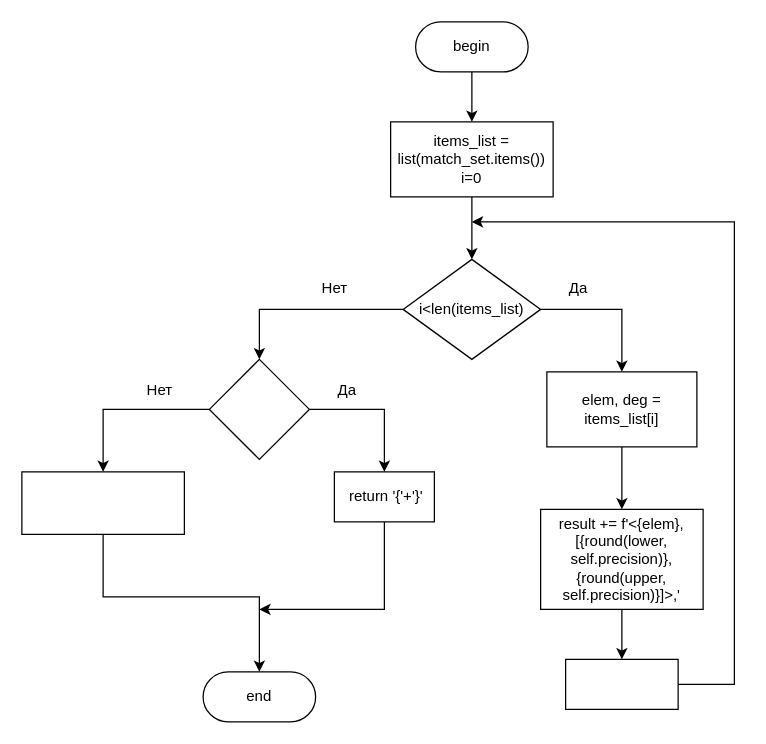
This 766x744 diagram has some shape labels left out. The shapes that lost their labels are listed below. From the top down, each one's centre as x and y in pixels, then its label:
At point 258,408: "result=='{'".
At point 102,502: "return result[:-1] + '}'".
At point 621,683: "i++".
